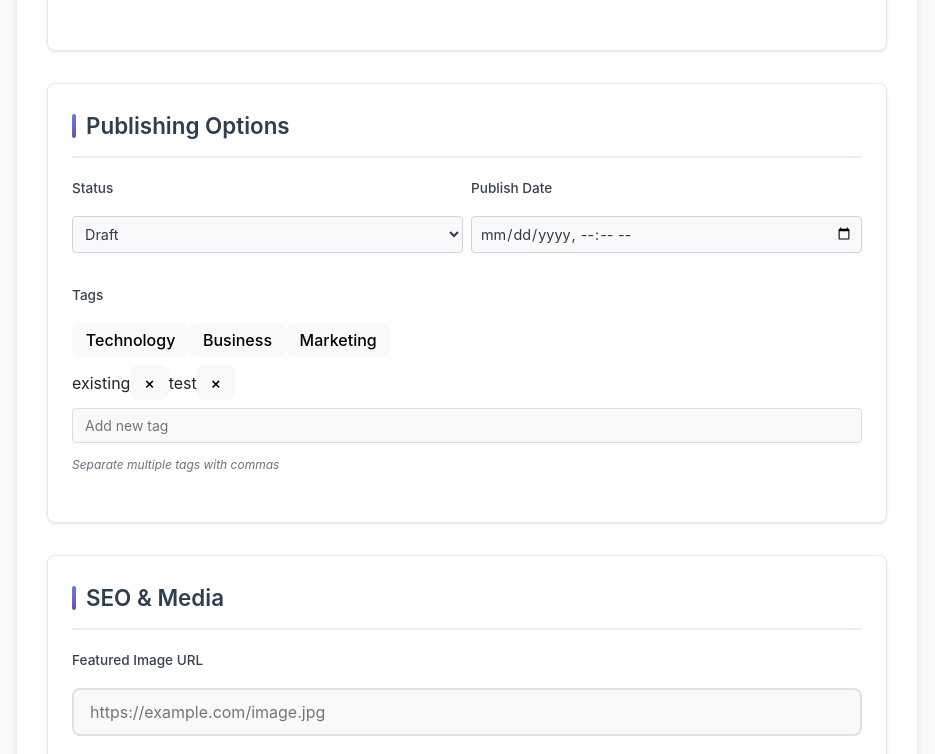
BlogPostForm Component › Tag Management › should remove tag from blog post
(page scrolled)
Check: the element with test id "selected-tag-existing" is shown, box [72, 373, 169, 393]
What coordinates should you click on to do the following:
click the button with test id "remove-tag-existing"
I would click on:
 (150, 383)
Its box is [130, 365, 169, 400].
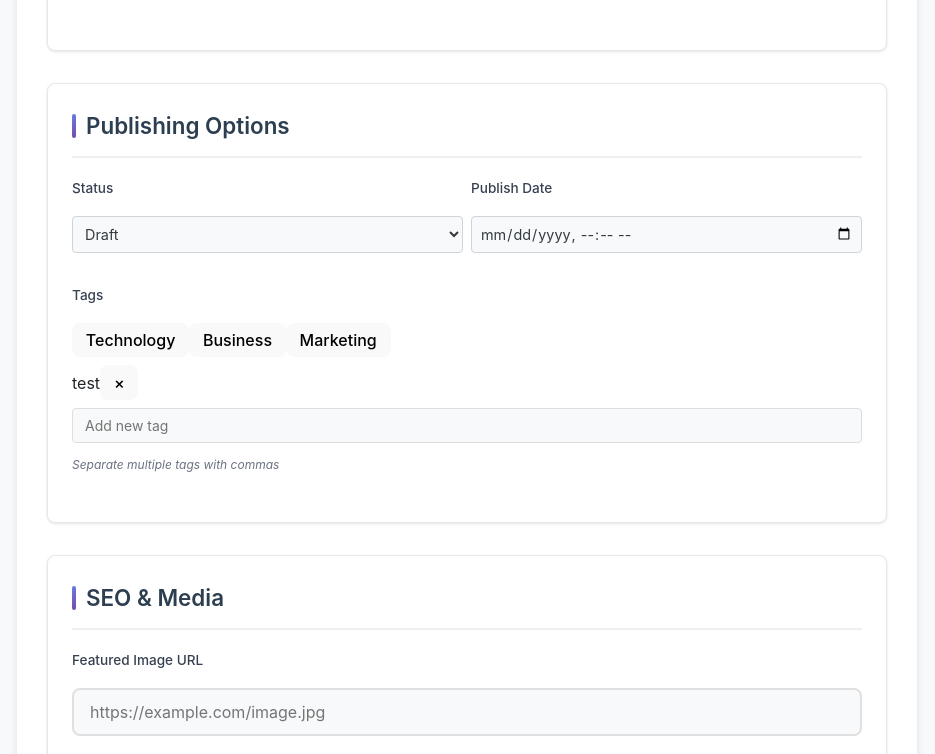
Check: the element with test id "selected-tag-existing" is gone
